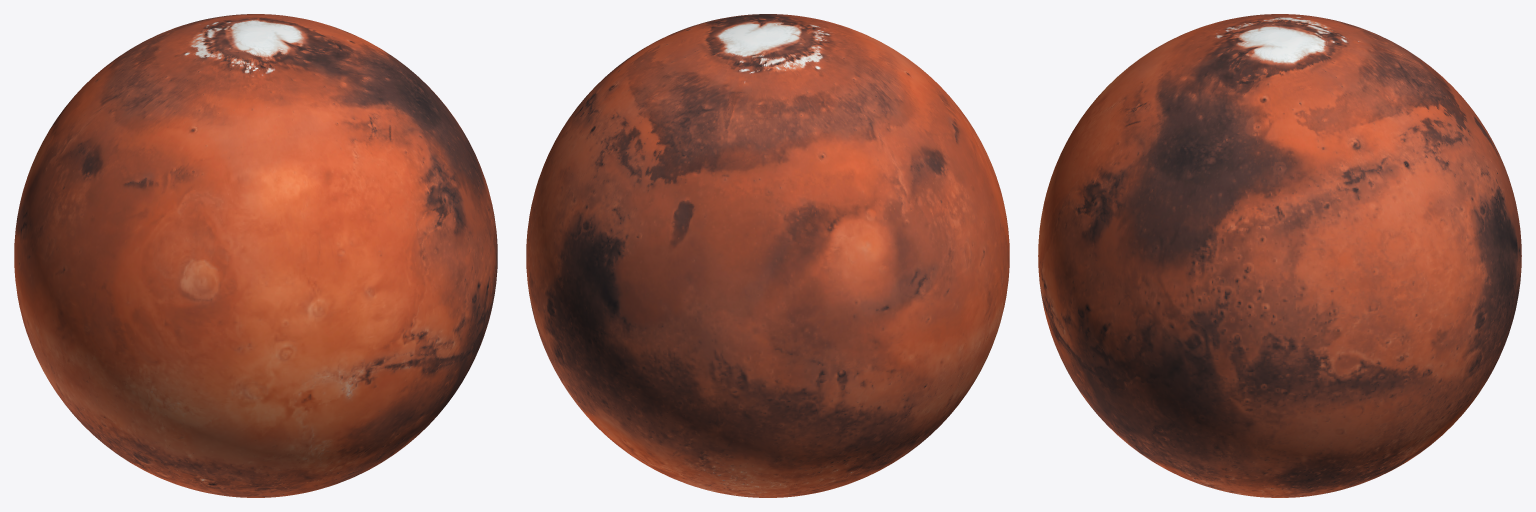
Rendered from mars.glb.
3 views of the same model, side by side, from view 1: azimuth 30°, elevation 25°; view 2: azimuth 150°, elevation 25°; view 3: azimuth 270°, elevation 25° (orthographic).
Parts seen in each view (by area): view 1: Mars for Pixabay.001; view 2: Mars for Pixabay.001; view 3: Mars for Pixabay.001.
Part boxes in pixels (x1,y1,x2,y2): Mars for Pixabay.001: (14,14,497,497); Mars for Pixabay.001: (526,14,1009,497); Mars for Pixabay.001: (1038,14,1521,497).
Bounding box in the file's own units: 1 × 1 × 1.
1 material, 1 textured.
